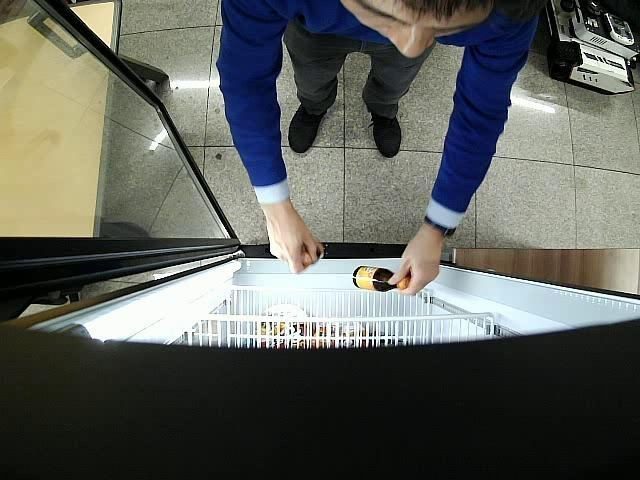17_vita500: (352, 266, 410, 290), (298, 244, 323, 266)
